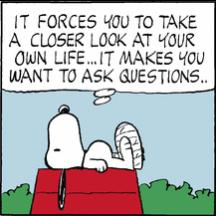snoopy: (44, 103, 146, 211)
